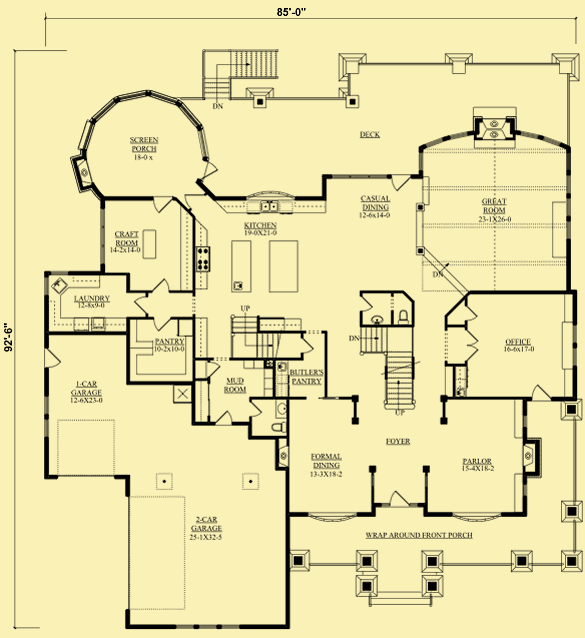door: (460, 327, 481, 366), (389, 169, 416, 197), (200, 157, 223, 184), (386, 484, 407, 511), (39, 346, 62, 368), (148, 274, 172, 295), (458, 299, 477, 324), (244, 399, 264, 422), (526, 384, 552, 401), (150, 195, 172, 215), (212, 409, 233, 428), (297, 336, 315, 355), (149, 316, 169, 332), (207, 359, 221, 381), (132, 292, 146, 313)
large sink: (393, 305, 412, 326), (265, 420, 287, 436)
small sink: (366, 310, 389, 324), (273, 399, 285, 418)
stairs: (346, 326, 419, 416), (198, 46, 280, 111), (227, 303, 288, 361)
twin sink: (258, 198, 279, 216)
windows: (562, 170, 575, 247), (323, 170, 388, 184), (169, 620, 241, 632), (568, 313, 581, 371), (39, 389, 52, 440), (519, 480, 530, 499), (520, 409, 529, 429)
